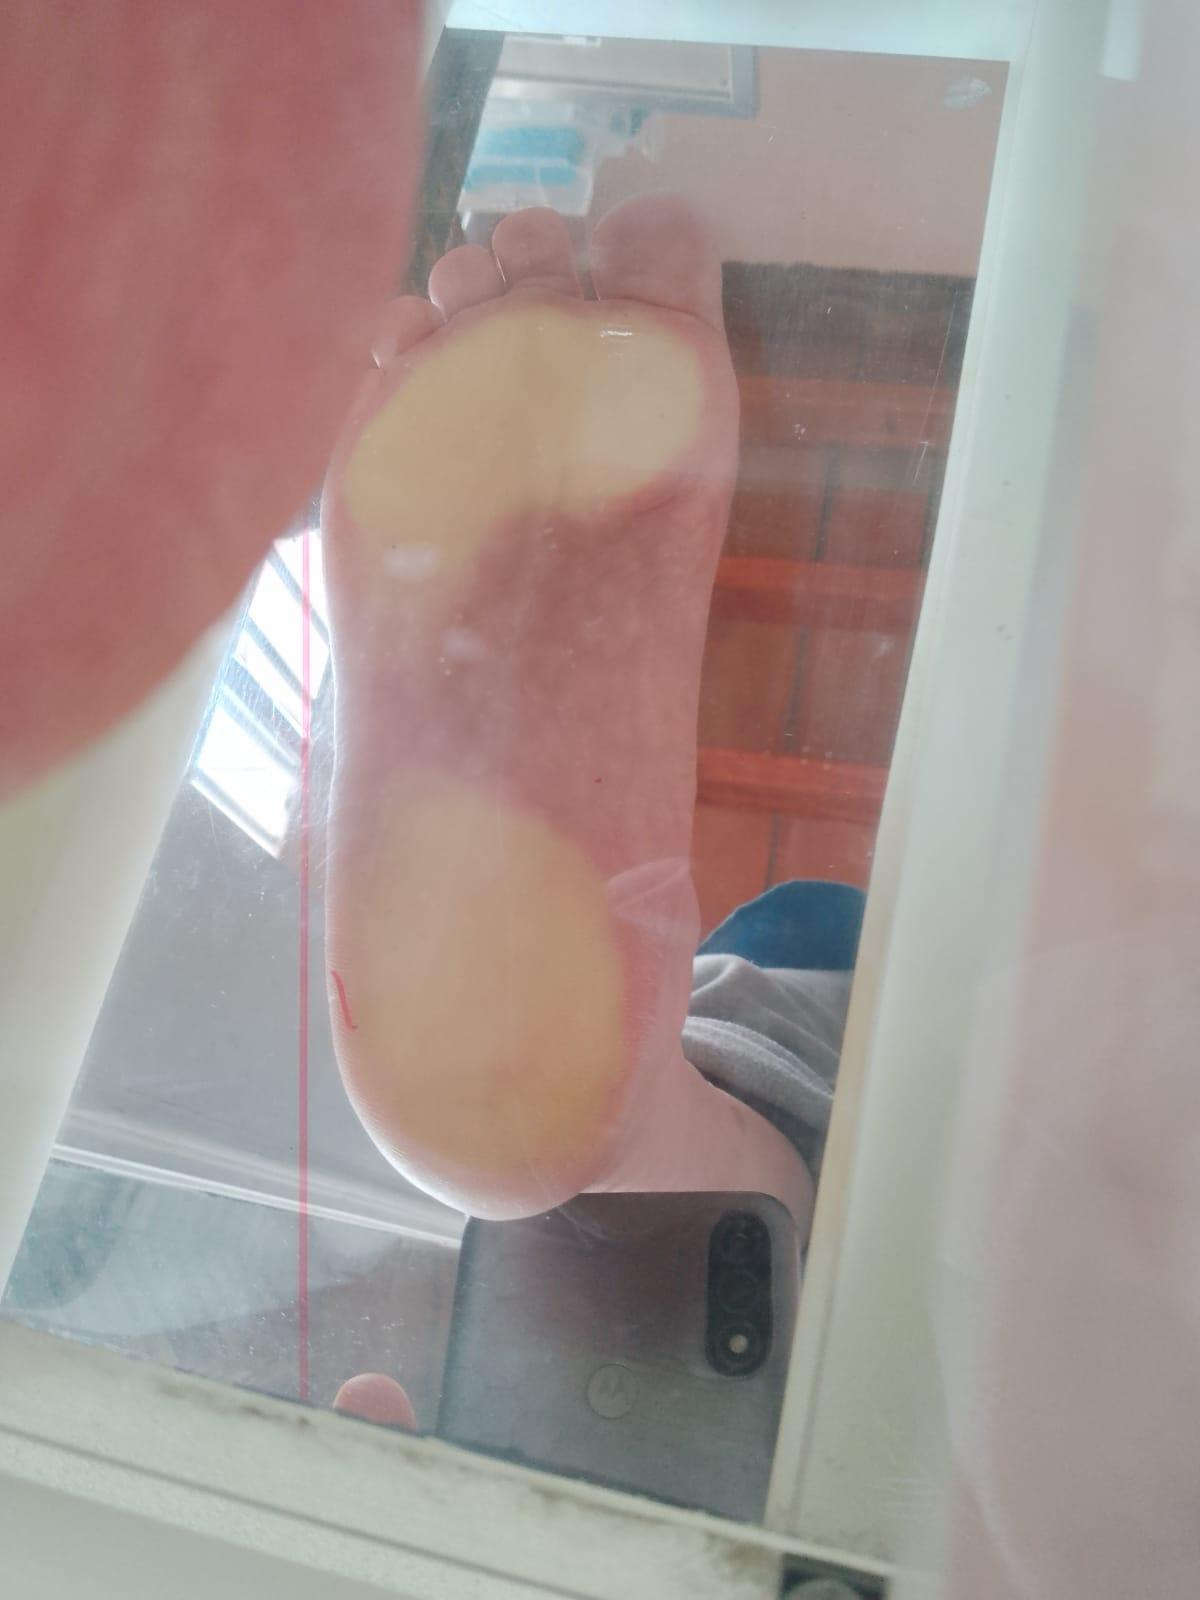Present: (320, 145, 745, 1250)
